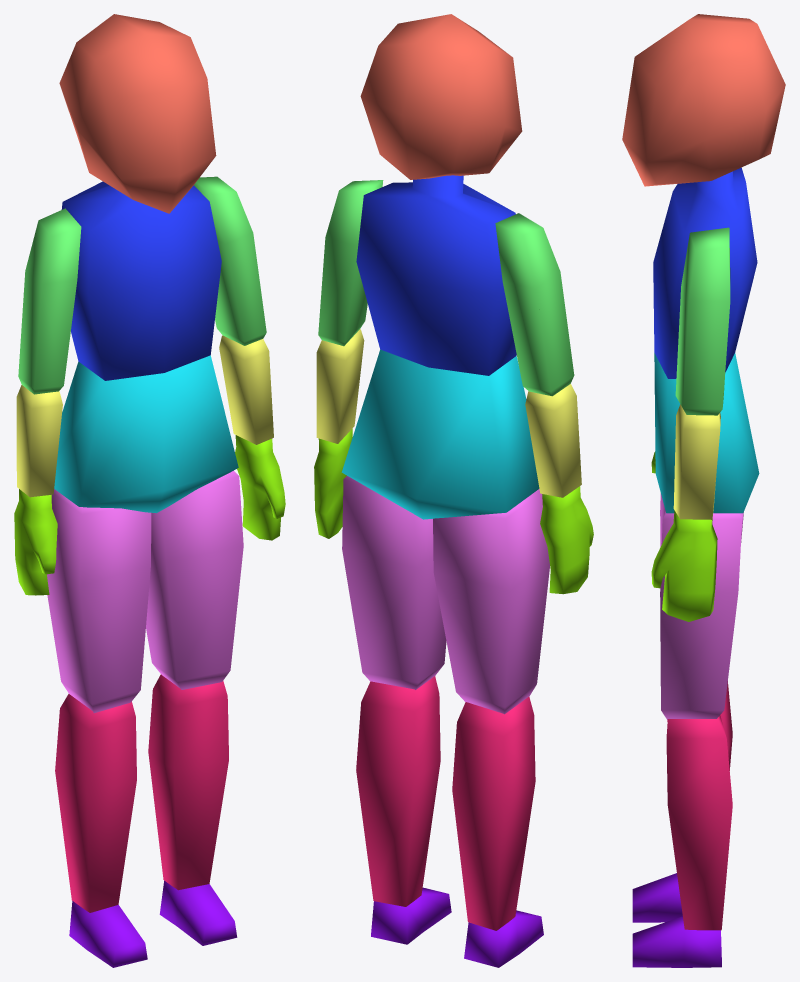
The picture shows the model from 3 angles, left to right: view 1: azimuth 30°, elevation 25°; view 2: azimuth 150°, elevation 25°; view 3: azimuth 270°, elevation 25°; orthographic projection. The views are drawn at different scales.
Parts seen in each view (by area): view 1: body; view 2: body; view 3: body.
Part boxes in pixels (x1=…): body: x1=14, y1=14, x2=285, y2=967; body: x1=314, y1=14, x2=593, y2=967; body: x1=622, y1=14, x2=785, y2=967.
Size of the model in its own units: 0.7816 by 2.69 by 0.4349.
Materials: 1 (1 with a texture image).
